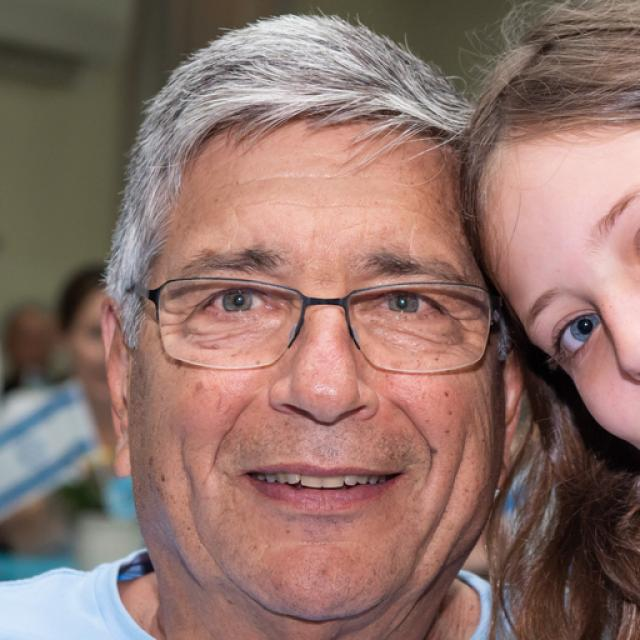Wrinkle: (218, 184, 456, 240), (380, 388, 444, 494), (427, 420, 471, 552), (205, 389, 265, 470), (228, 166, 404, 188)
